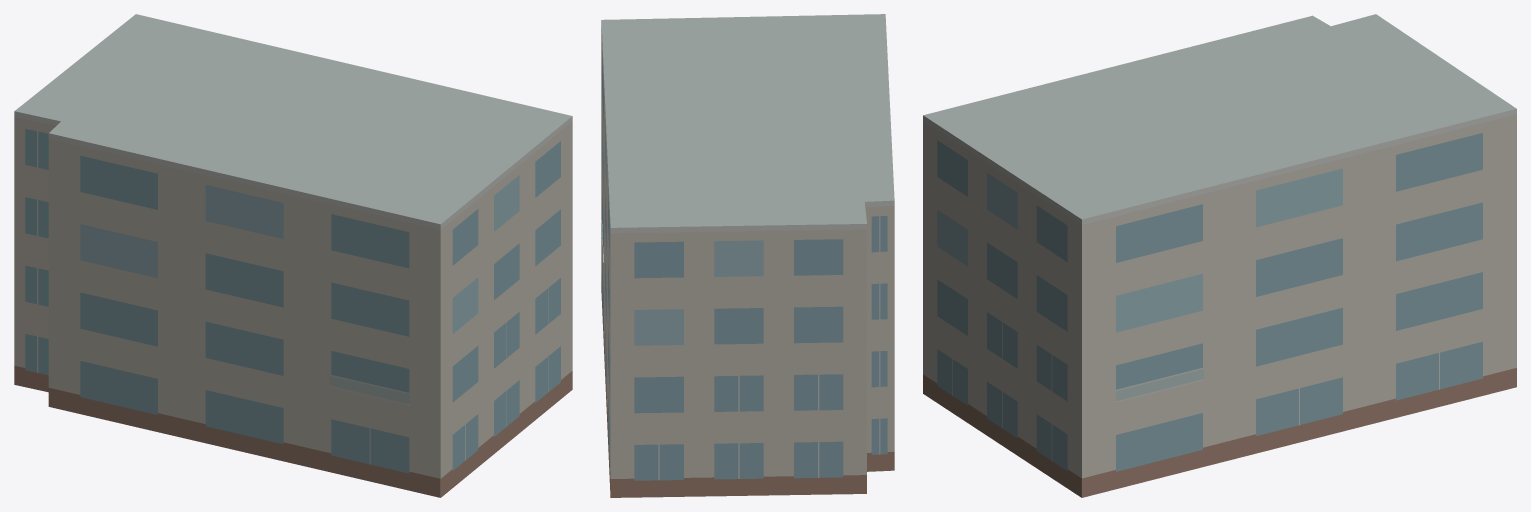
The model's file is survey-upis-32612764.glb.
The picture shows the model from 3 angles, left to right: view 1: azimuth 30°, elevation 25°; view 2: azimuth 150°, elevation 25°; view 3: azimuth 270°, elevation 25°; orthographic projection. The views are drawn at different scales.
Parts seen in each view (by area): view 1: survey-upis-32612764.tmp; view 2: survey-upis-32612764.tmp; view 3: survey-upis-32612764.tmp.
Boxes of the visible parts, x1,y1,x2,y2 form: survey-upis-32612764.tmp: (14, 14, 572, 497); survey-upis-32612764.tmp: (601, 14, 894, 497); survey-upis-32612764.tmp: (923, 14, 1516, 497).
Size of the model in its own units: 19.32 by 12.2 by 23.59.
